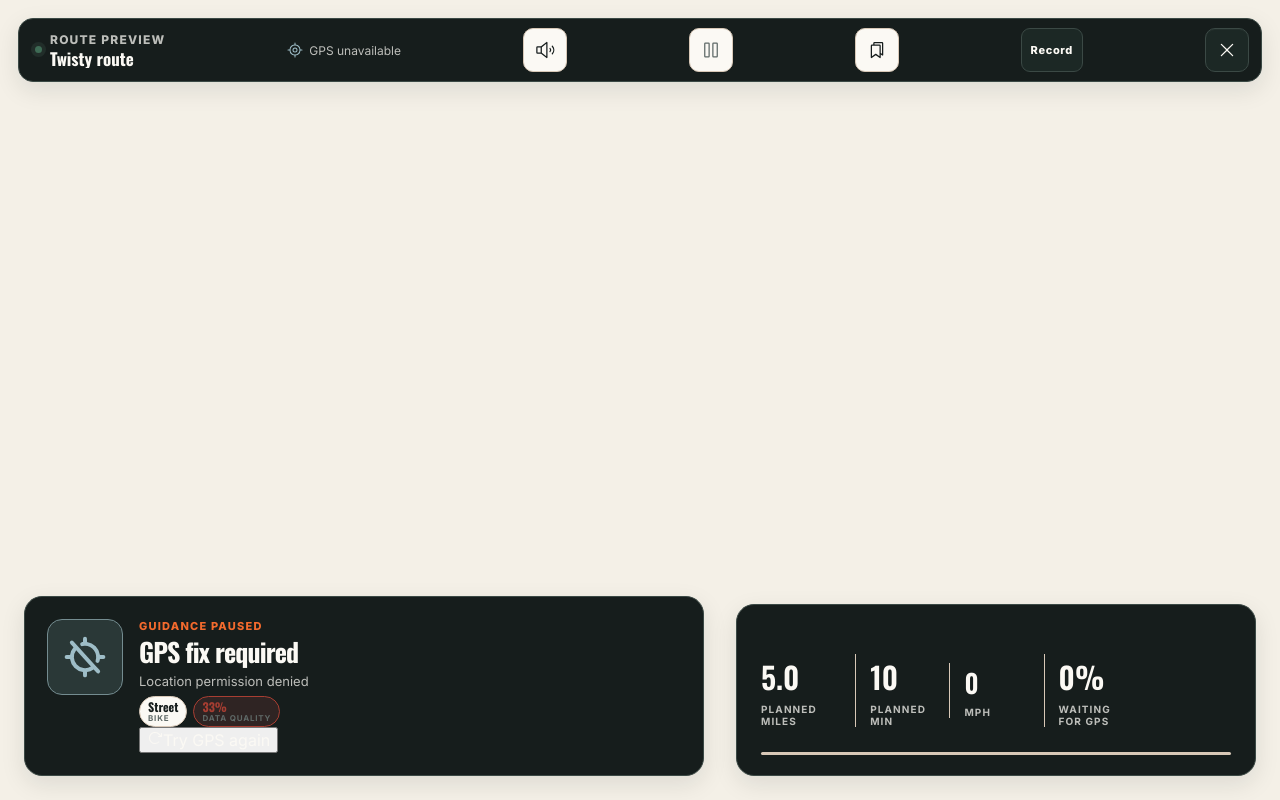
Test: ride HUD GPS safety › pauses and resumes guidance without leaving ride mode
Click the button named "Pause guidance": point(711, 50) [689,28,733,72]
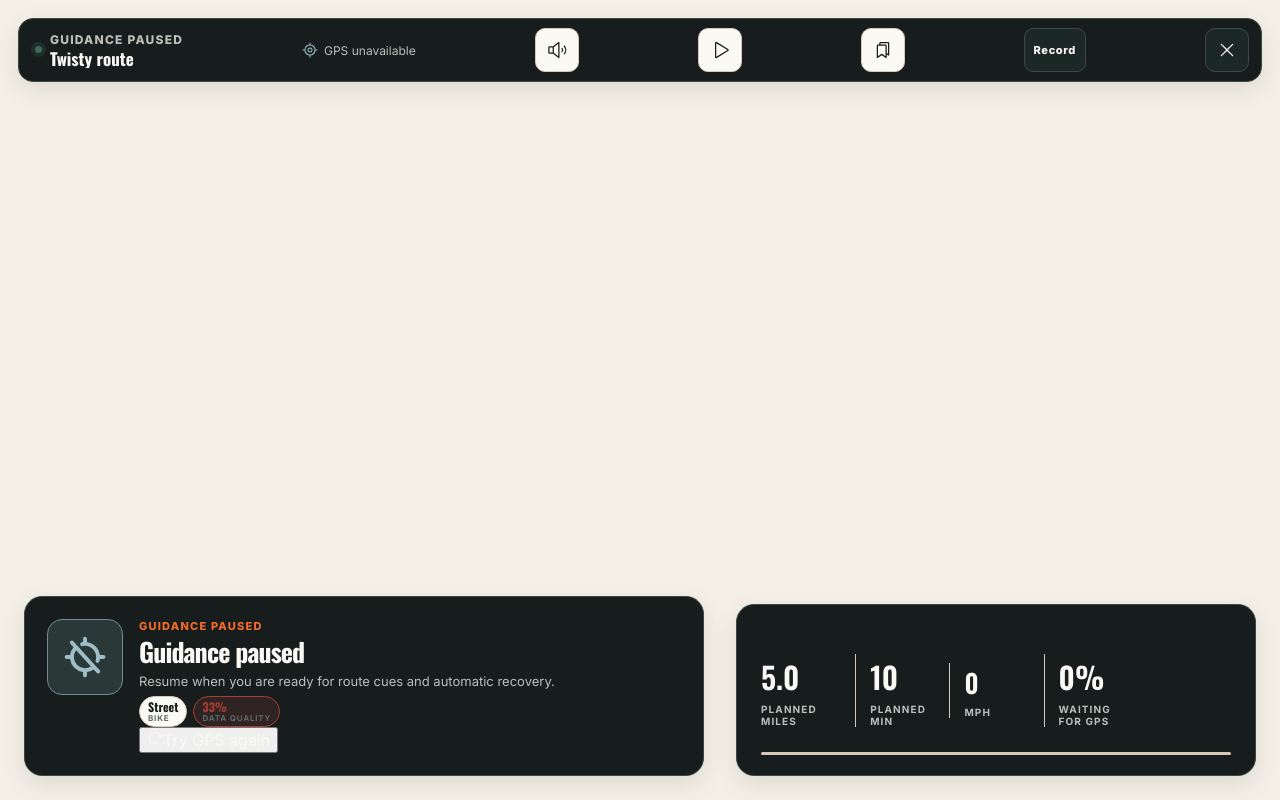
Expected: the button named "Resume guidance" is shown
Expected: the heading "Guidance paused" is shown, [139,632,304,672]
Click the button named "Resume guidance": point(720, 50) [698,28,742,72]
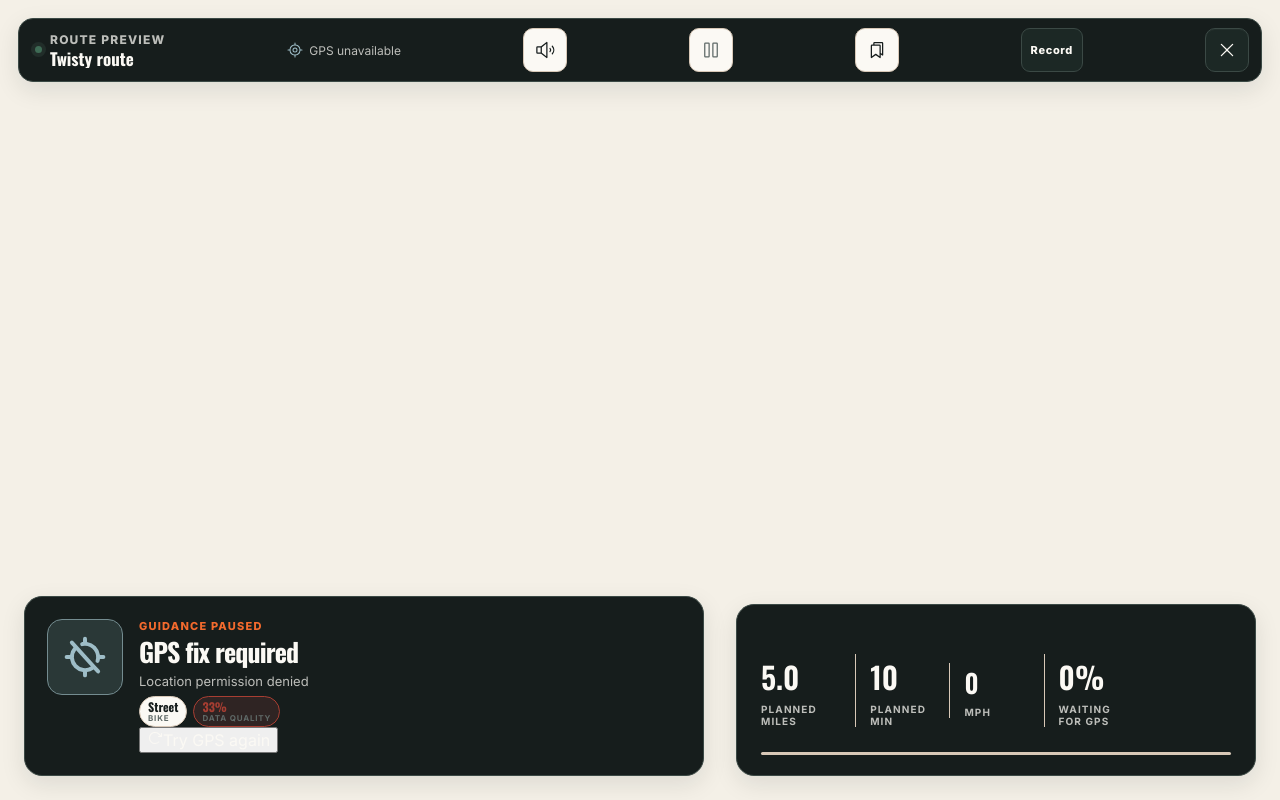
Expected: the button named "Pause guidance" is shown, [689,28,733,72]
